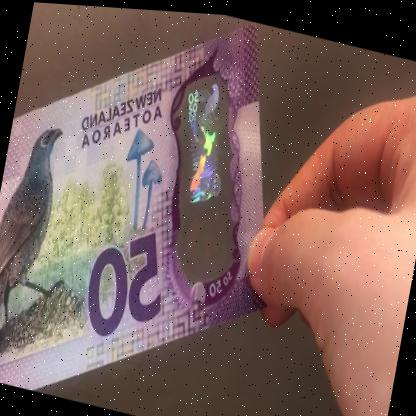50B: (156, 71, 242, 271)
